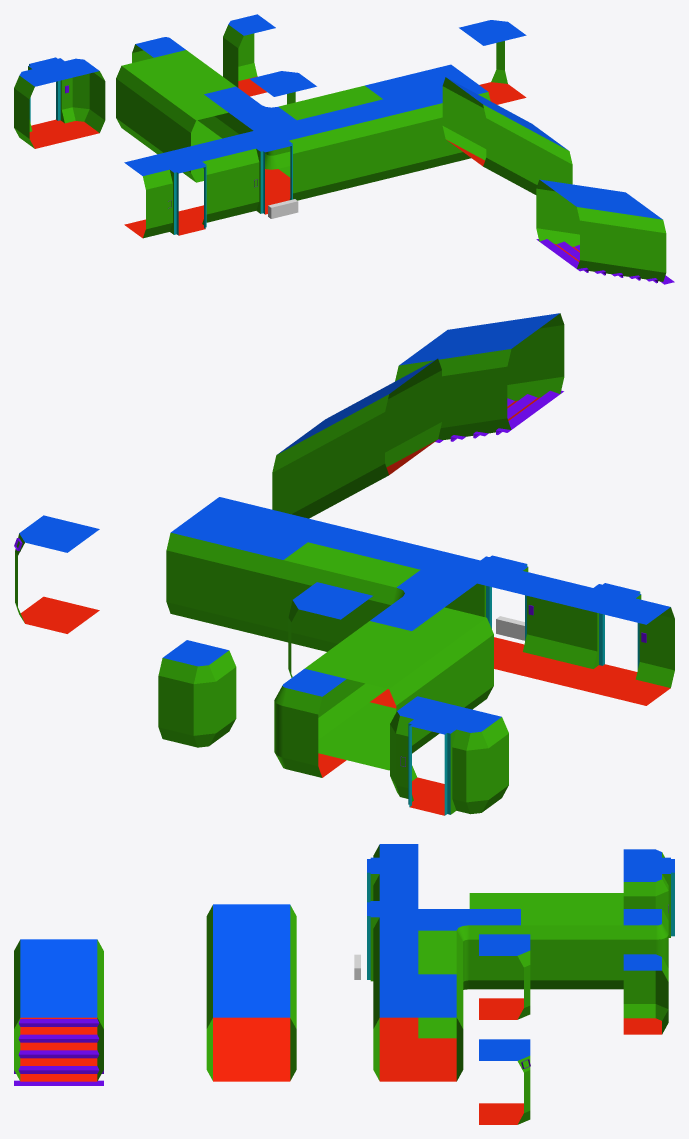
Rendered from straight_hall_doorway_w_light.FBX.
3 views of the same model, one above another, from view 1: azimuth 30°, elevation 25°; view 2: azimuth 150°, elevation 25°; view 3: azimuth 270°, elevation 25° (orthographic). The views are drawn at different scales.
Parts seen in each view (by area): view 1: Plane003, Plane005, Plane004, straight_hallway_half, straight_hallway_half002, straight_hallway_half001, outer_corner001, Plane002, Object001, inner_corner001, Line001, inner_corner (+4 smaller); view 2: Plane003, Plane002, Plane004, Plane005, straight_hallway_half002, outer_corner001, straight_hallway_half001, Object001, inner_corner001, outer_corner, Line013, straight_hallway_half (+4 smaller); view 3: Plane004, Plane003, Plane005, Plane002, Object001, straight_hallway_quarter, outer_corner001, stairs, straight_hallway_half, inner_corner001, inner_corner, straight_hallway_half001 (+3 smaller).
Boxes of the visible parts, x1,y1,x2,y2 form: Plane003: (116,50,382,182); Plane005: (536,179,666,281); Plane004: (442,77,572,194); straight_hallway_half: (297,99,405,195); straight_hallway_half002: (124,141,232,238); straight_hallway_half001: (211,120,318,217); outer_corner001: (14,57,105,148); Plane002: (365,64,490,174); Object001: (223,14,275,96); inner_corner001: (459,20,526,104); Line001: (229,105,296,190); inner_corner: (249,71,316,104); Plane003: (279,542,493,770); Plane002: (166,497,331,640); Plane004: (272,358,441,518); Plane005: (395,313,564,439); straight_hallway_half002: (534,579,674,705); outer_corner001: (390,696,508,815); straight_hallway_half001: (421,552,561,678); Object001: (158,640,236,747); inner_corner001: (14,515,99,633); outer_corner: (283,676,333,777); Line013: (274,668,346,777); straight_hallway_half: (308,524,449,608); Plane004: (206,904,296,1081); Plane003: (418,893,623,1038); Plane005: (14,939,103,1081); Plane002: (373,974,463,1081); Object001: (623,954,668,1034); straight_hallway_quarter: (469,909,520,989); outer_corner001: (623,849,674,937); stairs: (14,1019,103,1085); straight_hallway_half: (373,930,418,1038); inner_corner001: (479,1039,530,1124); inner_corner: (479,934,530,1019); straight_hallway_half001: (367,887,418,981).
Size of the model in its own units: 789 by 226 by 1014.
